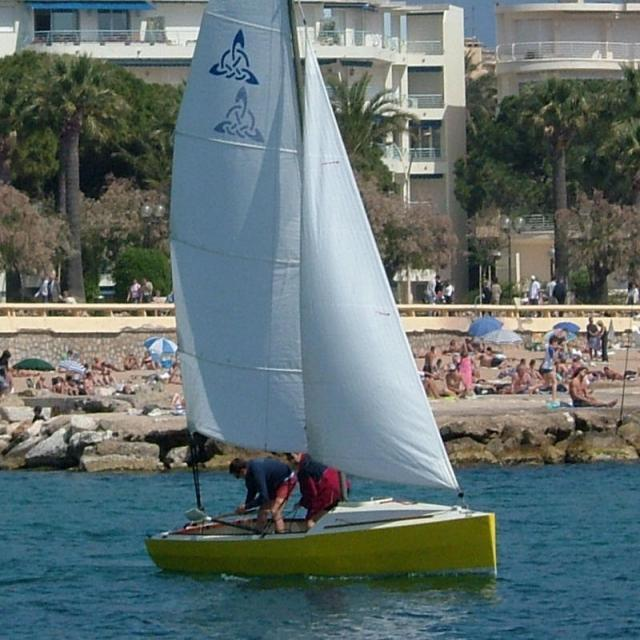Ship: (143, 6, 508, 585)
